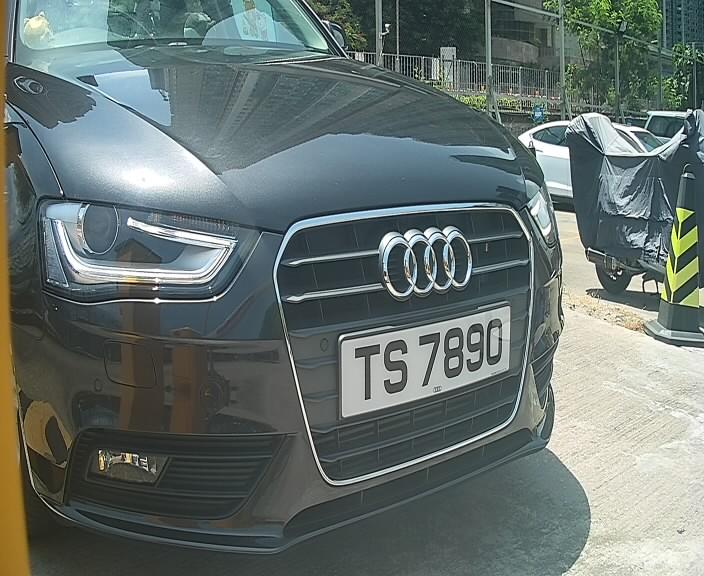License Plate: (337, 304, 507, 415)
